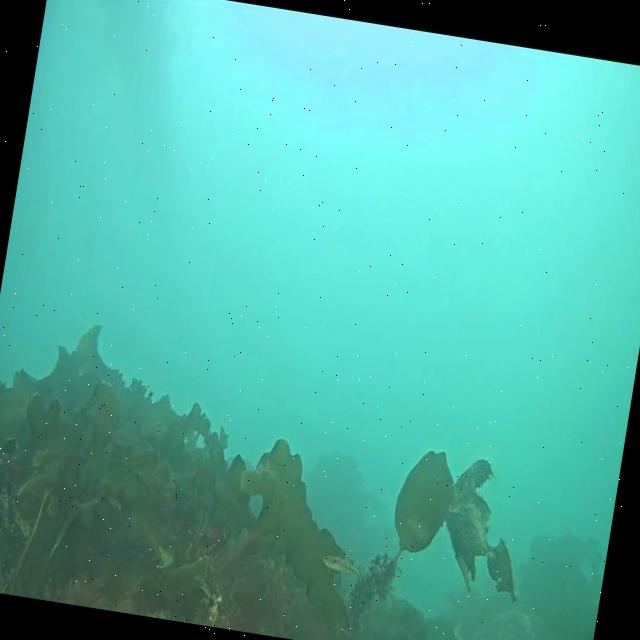fish: (320, 552, 362, 580)
